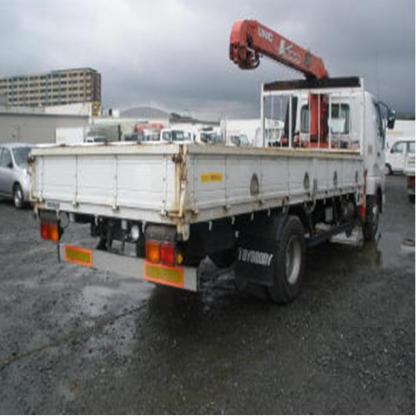truck: (31, 18, 397, 301)
